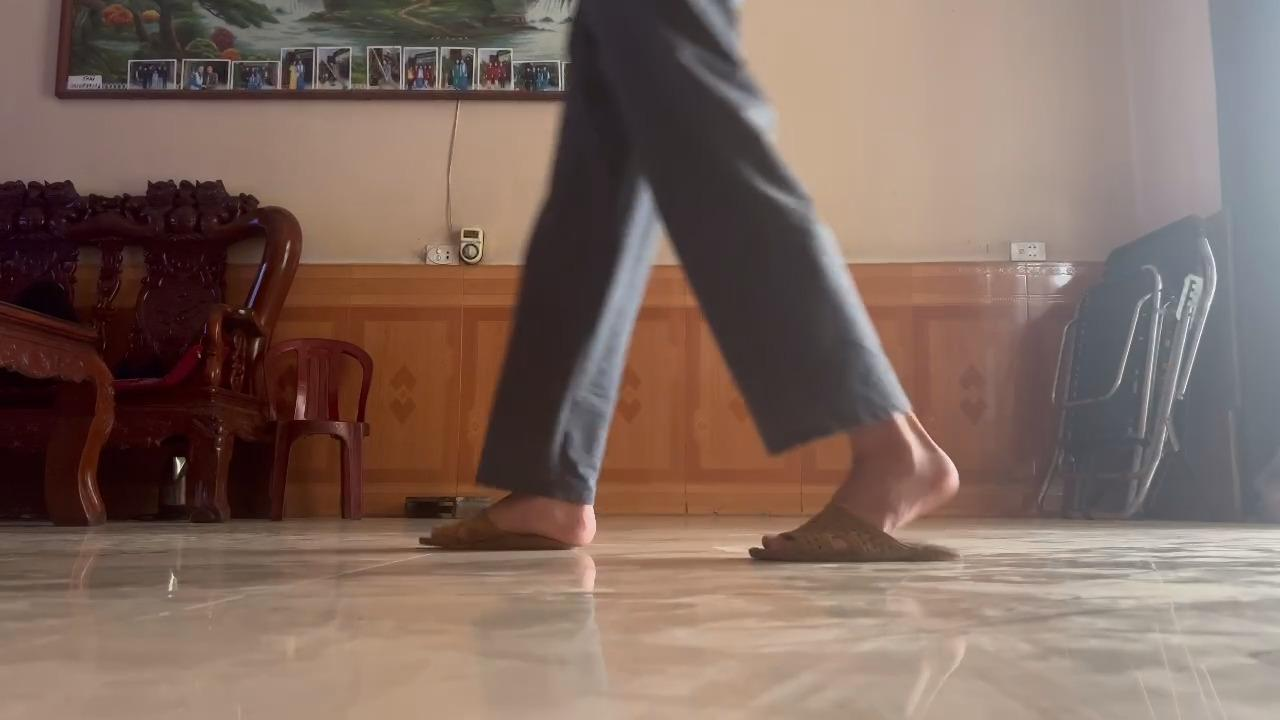no-boot: (741, 422, 970, 568), (410, 487, 603, 559)
